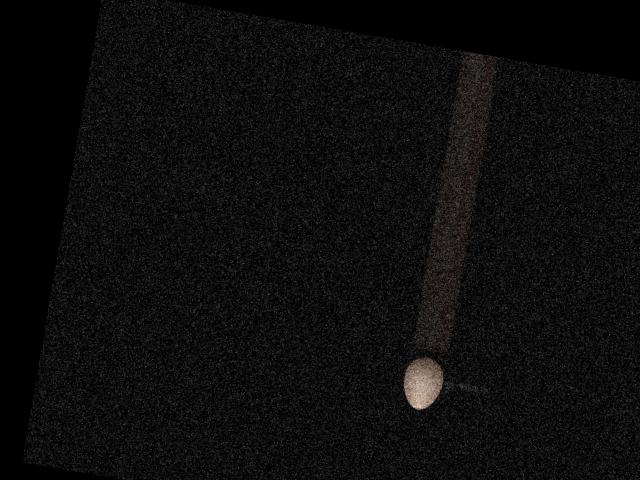egg: (398, 353, 445, 412)
